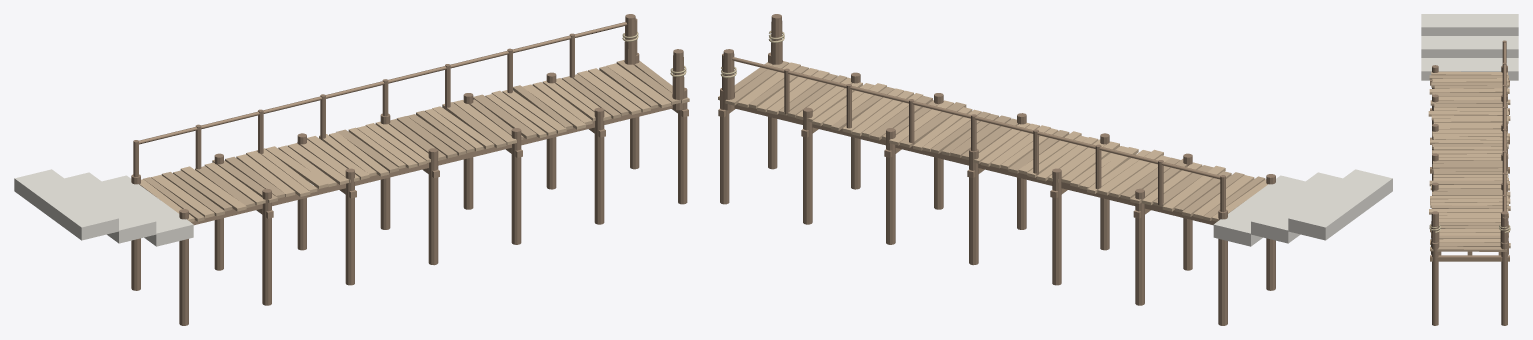
Rendered from pier.glb.
3 views of the same model, side by side, from view 1: azimuth 30°, elevation 25°; view 2: azimuth 150°, elevation 25°; view 3: azimuth 270°, elevation 25° (orthographic). The views are drawn at different scales.
Parts seen in each view (by area): view 1: pier; view 2: pier; view 3: pier.
Part boxes in pixels (x1,y1,x2,y2): pier: (14, 14, 689, 325); pier: (718, 14, 1392, 325); pier: (1421, 14, 1518, 325).
Size of the model in its own units: 14.82 by 3.5 by 2.8.
